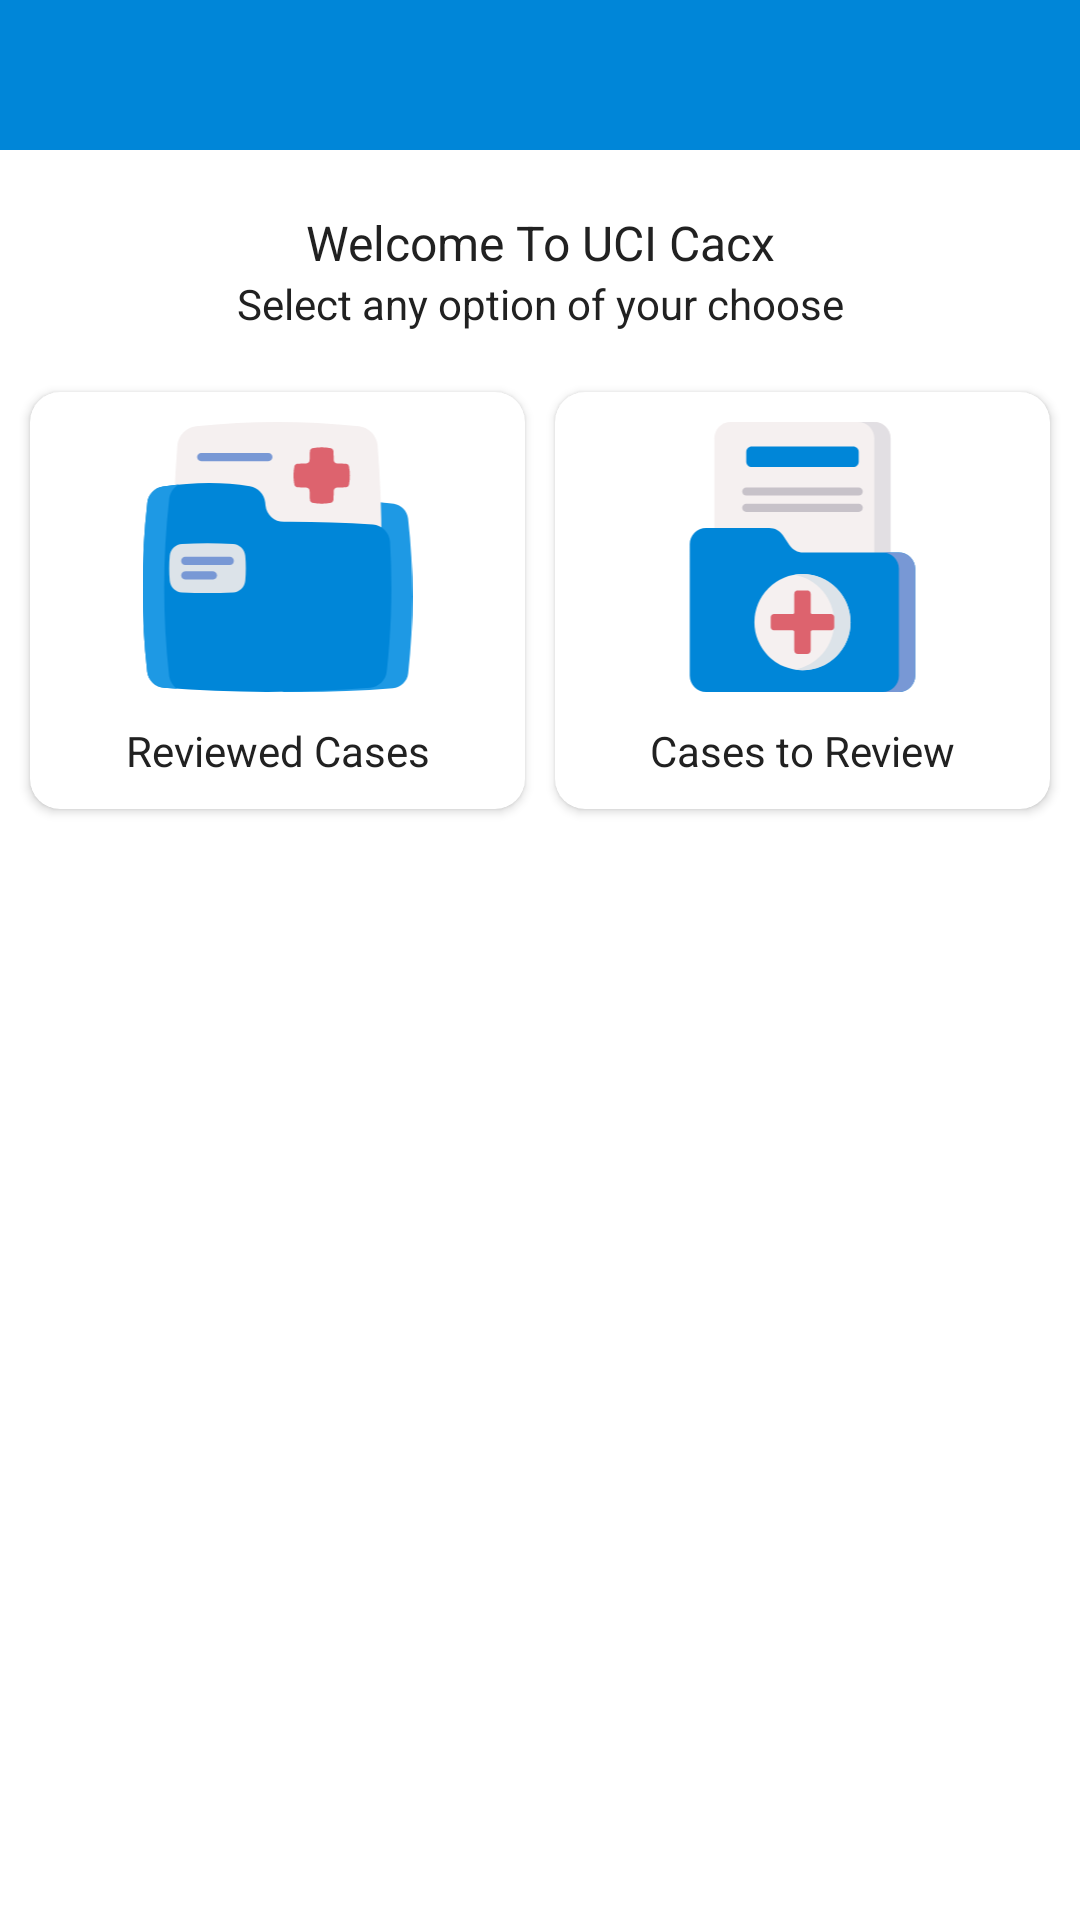

Where to tap for icons on this 1080 x 1920 app screen, as [x,y]:
medical: [802,557]
medical folder: [278,569]
